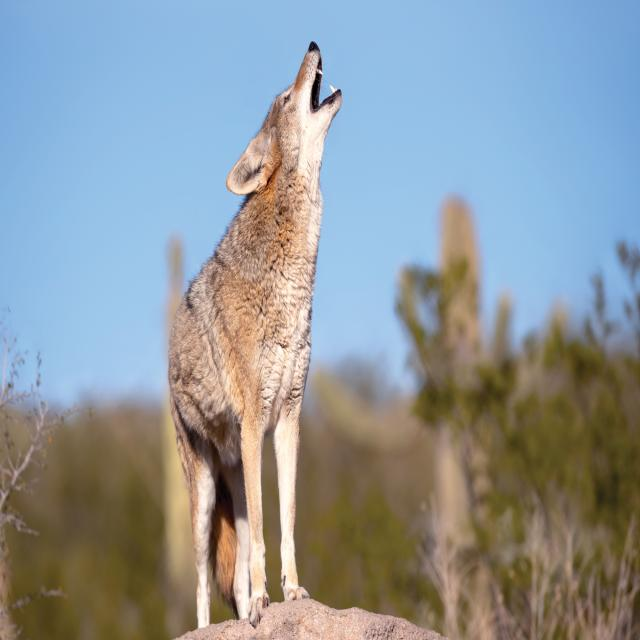Coyote: (167, 39, 344, 629)
